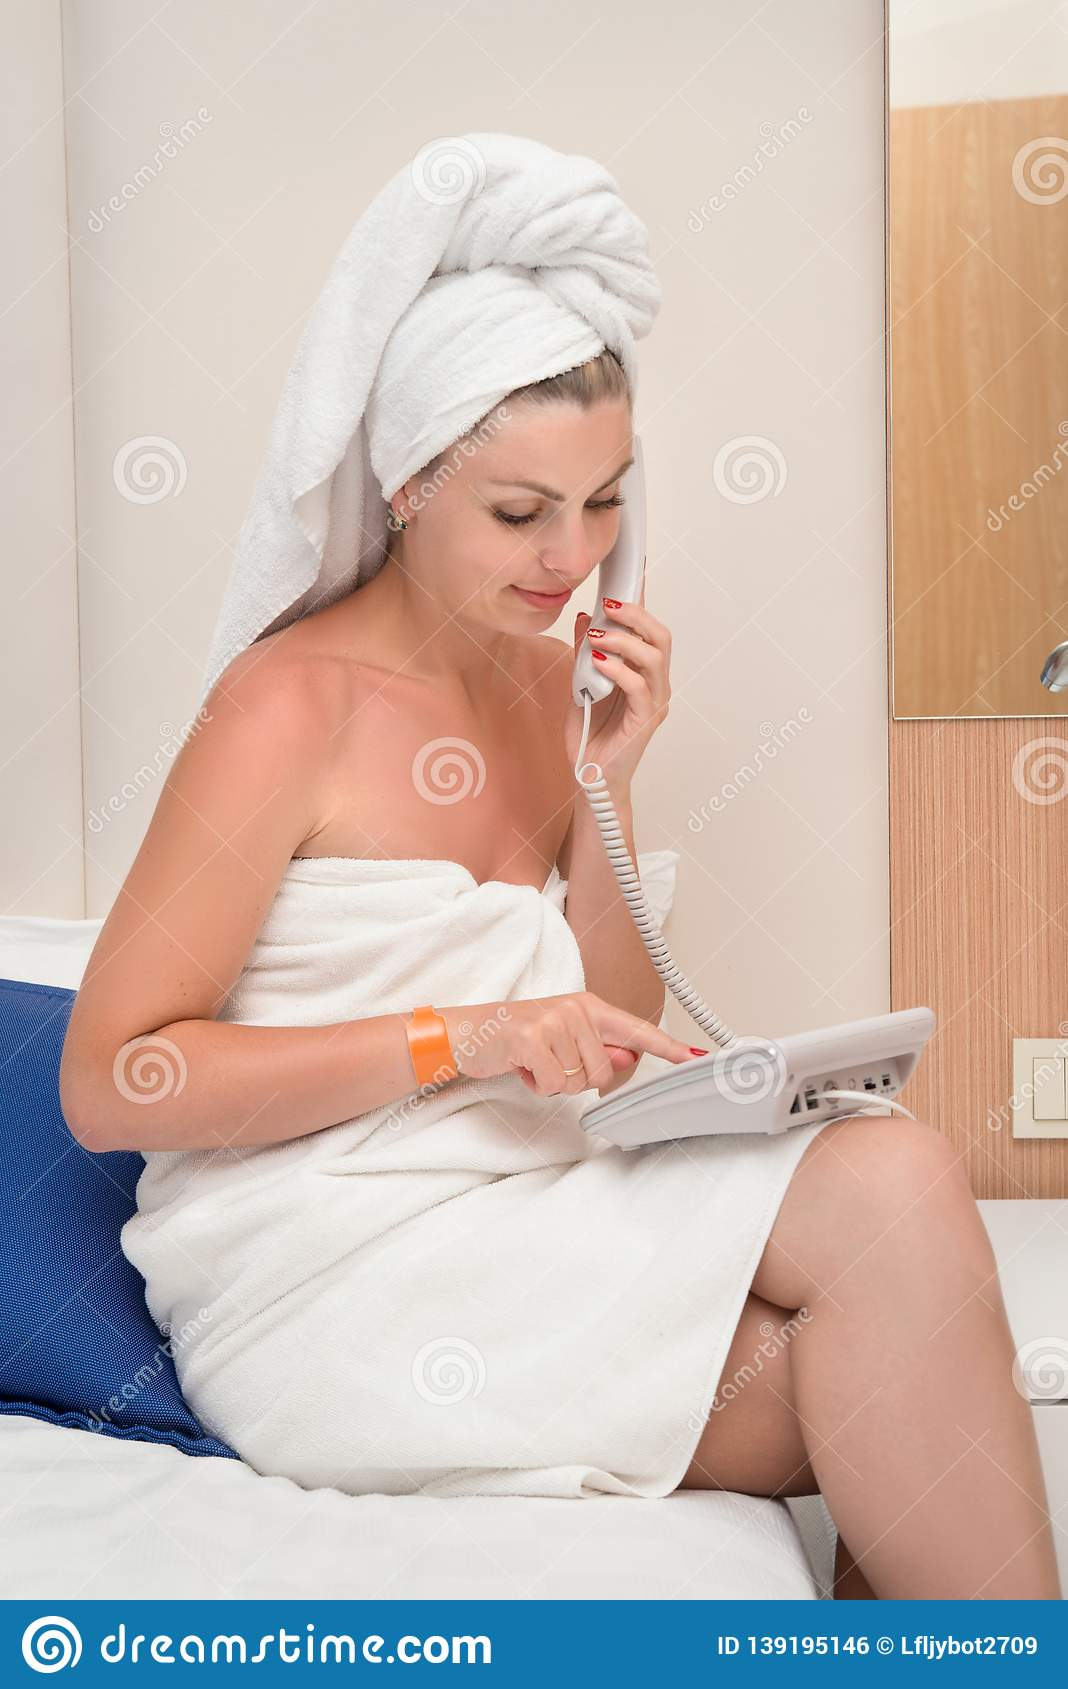phone: (567, 433, 651, 716)
talk: (477, 426, 674, 787)
